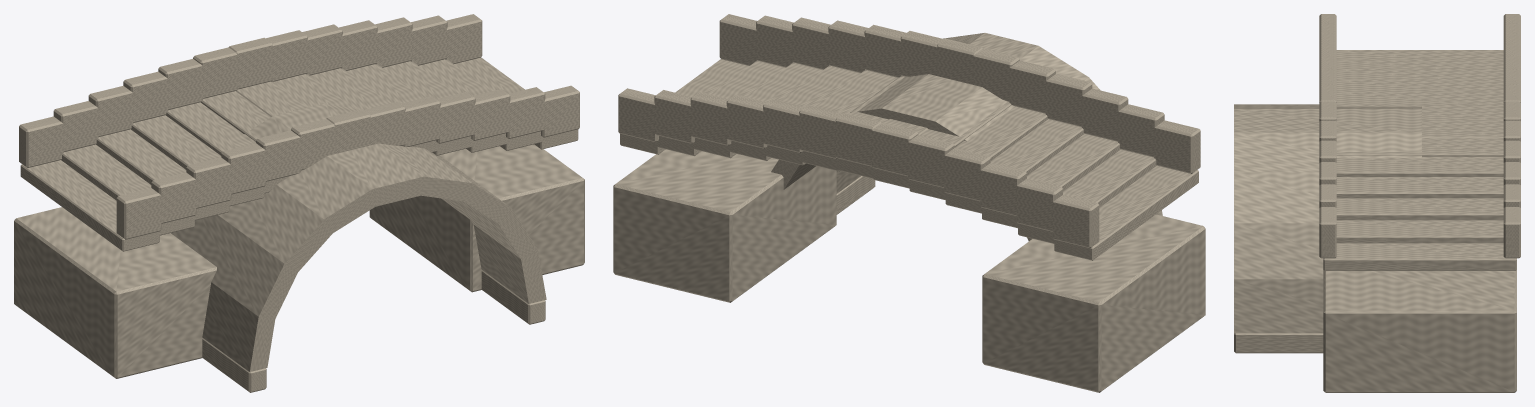
The model's file is fantasy-mmo-city-and-townsfolk-stone-arch-bridge-80ffa4c5__32729.glb.
3 renders of one model, left to right at view 1: azimuth 30°, elevation 25°; view 2: azimuth 150°, elevation 25°; view 3: azimuth 270°, elevation 25°, orthographic. The views are drawn at different scales.
Visible parts, largest first — view 1: stone-arch-bridge; view 2: stone-arch-bridge; view 3: stone-arch-bridge.
Part boxes in pixels (x1,y1,x2,y2): stone-arch-bridge: (14, 14, 584, 392); stone-arch-bridge: (613, 14, 1205, 392); stone-arch-bridge: (1234, 14, 1520, 392).
Bounding box in the file's own units: 9 × 3.75 × 5.04.
Materials: 1 (1 with a texture image).
